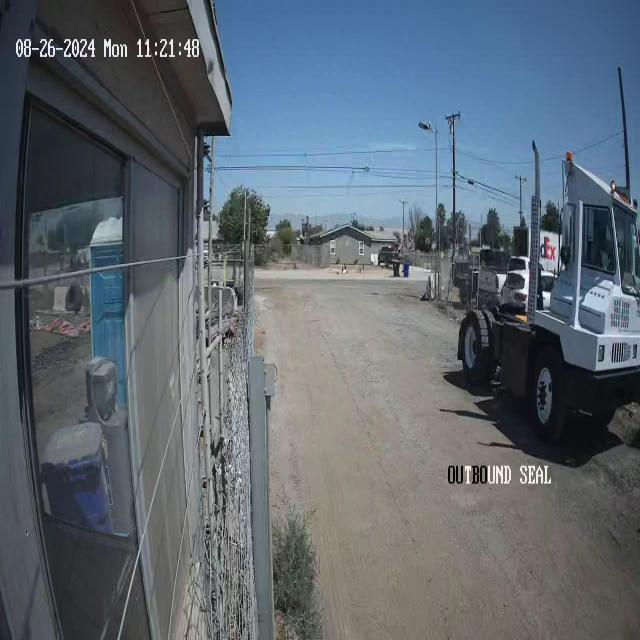TRUCK_IN: (456, 148, 640, 444)
